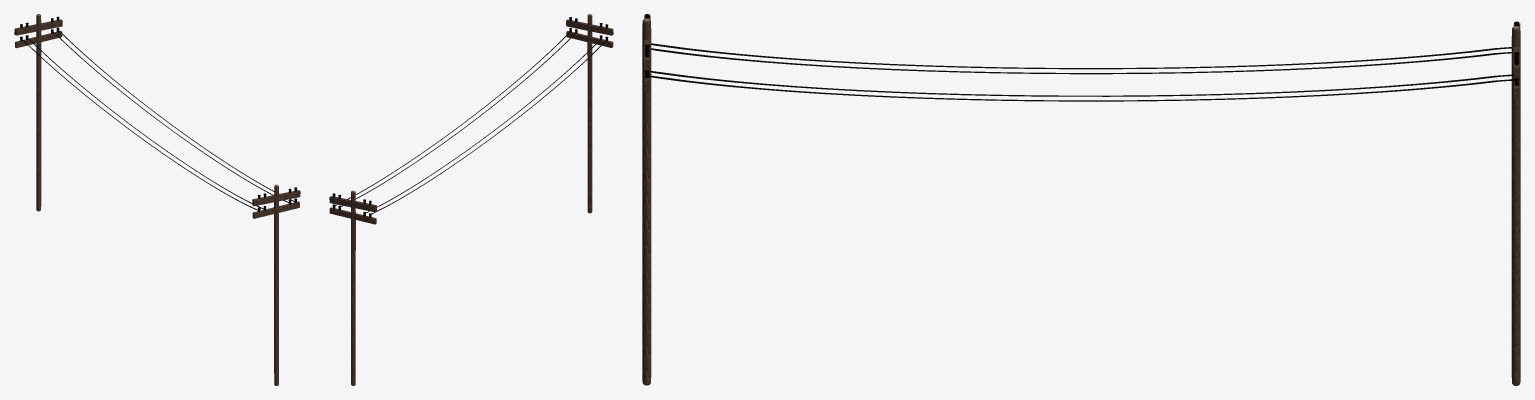
File: FbxPhone.fbx
3 renders of one model, left to right at view 1: azimuth 30°, elevation 25°; view 2: azimuth 150°, elevation 25°; view 3: azimuth 270°, elevation 25°, orthographic. The views are drawn at different scales.
Parts seen in each view (by area): view 1: phone; view 2: phone; view 3: phone.
Part boxes in pixels (<box>): phone: <box>14,14,300,385</box>; phone: <box>329,14,613,385</box>; phone: <box>642,14,1520,385</box>.
Size of the model in its own units: 1.41 by 5.73 by 12.52.
Materials: 4 (2 with a texture image).
